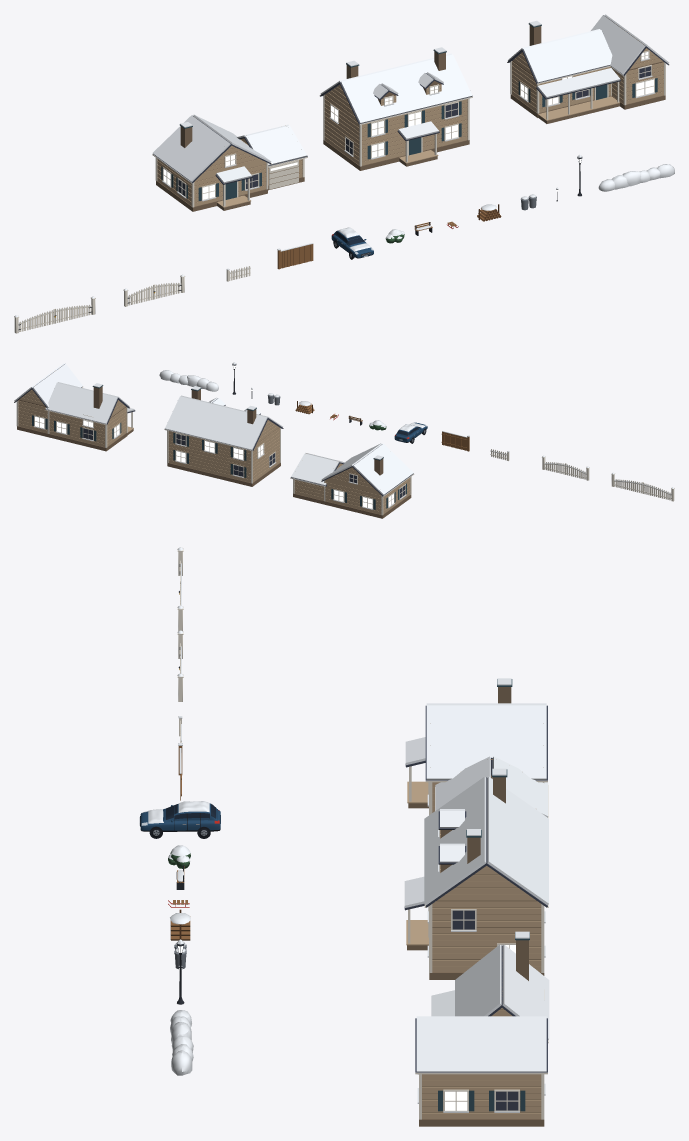
The model's file is world_kit.fbx.
3 renders of one model, top to bottom at view 1: azimuth 30°, elevation 25°; view 2: azimuth 150°, elevation 25°; view 3: azimuth 270°, elevation 25°, orthographic. The views are drawn at different scales.
Parts seen in each view (by area): view 1: Kit_HouseC_Snow, Kit_HouseB_Snow, Kit_HouseA_Snow, Kit_HouseB_Wall, Kit_HouseC_Wall, Kit_HouseA_Wall, Kit_HouseA_Trim, Kit_HouseB_Shade, Kit_HouseB_Trim, Kit_HouseC_Shade, Kit_HouseC_Trim, Kit_HouseA_Shade (+10 smaller); view 2: Kit_HouseB_Snow, Kit_HouseB_Wall, Kit_HouseA_Snow, Kit_HouseC_Snow, Kit_HouseC_Wall, Kit_HouseA_Wall, Kit_HouseB_Shade, Kit_HouseC_Shade, Kit_HouseA_Shade, Kit_HouseB_Trim, Kit_HouseC_Trim, Kit_GateB_Trim (+12 smaller); view 3: Kit_HouseC_Snow, Kit_HouseA_Snow, Kit_HouseB_Snow, Kit_HouseB_Wall, Kit_HouseC_Wall, Kit_HouseB_Shade, Kit_HouseC_Shade, Kit_Snowbank_Snow, Kit_HouseC_Trim, Kit_HouseB_Roof, Kit_Car_Paint, Kit_HouseC_Roof (+1 smaller).
Part boxes in pixels (x1,y1,x2,y2): Kit_HouseC_Snow: [508, 14, 669, 106]; Kit_HouseB_Snow: [320, 47, 472, 159]; Kit_HouseA_Snow: [153, 114, 307, 201]; Kit_HouseB_Wall: [324, 84, 467, 165]; Kit_HouseC_Wall: [512, 48, 663, 120]; Kit_HouseA_Wall: [157, 125, 302, 207]; Kit_HouseA_Trim: [152, 153, 307, 207]; Kit_HouseB_Shade: [323, 51, 469, 170]; Kit_HouseB_Trim: [319, 84, 472, 166]; Kit_HouseC_Shade: [510, 17, 665, 123]; Kit_HouseC_Trim: [507, 50, 669, 119]; Kit_HouseA_Shade: [156, 126, 304, 211]; Kit_HouseB_Snow: [165, 386, 282, 477]; Kit_HouseB_Wall: [168, 420, 279, 482]; Kit_HouseA_Snow: [291, 443, 413, 509]; Kit_HouseC_Snow: [14, 363, 134, 441]; Kit_HouseC_Wall: [18, 389, 133, 447]; Kit_HouseA_Wall: [294, 463, 410, 514]; Kit_HouseB_Shade: [167, 389, 280, 486]; Kit_HouseC_Shade: [17, 368, 133, 451]; Kit_HouseA_Shade: [293, 459, 411, 518]; Kit_HouseB_Trim: [164, 428, 283, 483]; Kit_HouseC_Trim: [14, 386, 132, 447]; Kit_GateB_Trim: [611, 473, 674, 501]; Kit_HouseC_Snow: [416, 931, 549, 1112]; Kit_HouseA_Snow: [405, 678, 548, 817]; Kit_HouseB_Snow: [404, 768, 548, 957]; Kit_HouseB_Wall: [406, 830, 541, 972]; Kit_HouseC_Wall: [422, 1008, 541, 1118]; Kit_HouseB_Shade: [407, 777, 544, 979]; Kit_HouseC_Shade: [419, 940, 544, 1126]; Kit_Snowbank_Snow: [170, 1010, 193, 1075]; Kit_HouseC_Trim: [415, 989, 548, 1119]; Kit_HouseB_Roof: [404, 777, 547, 929]; Kit_Car_Paint: [140, 803, 220, 830]; Kit_HouseC_Roof: [415, 945, 547, 1110].
Bounding box in the file's own units: 257 × 29.84 × 80.24.
